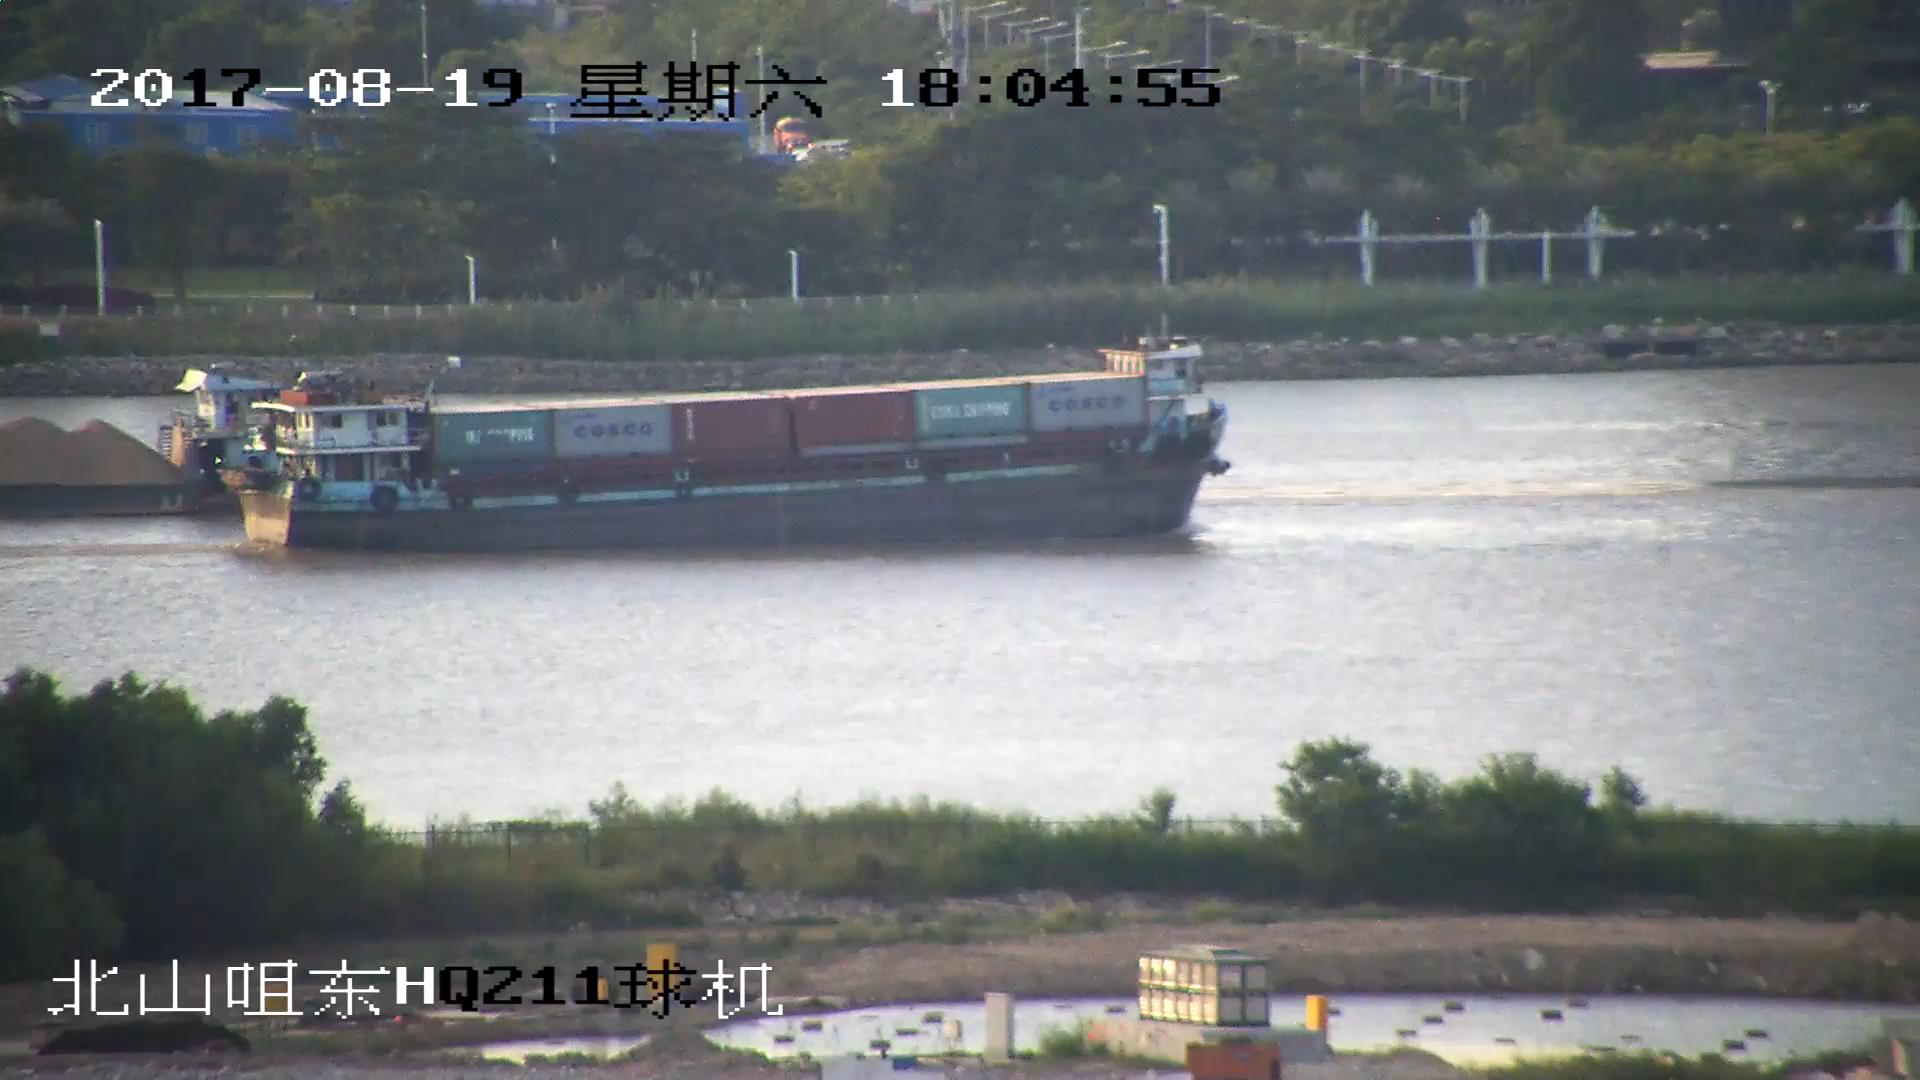container ship: (222, 337, 1229, 545)
ore carrier: (1, 408, 218, 520)
